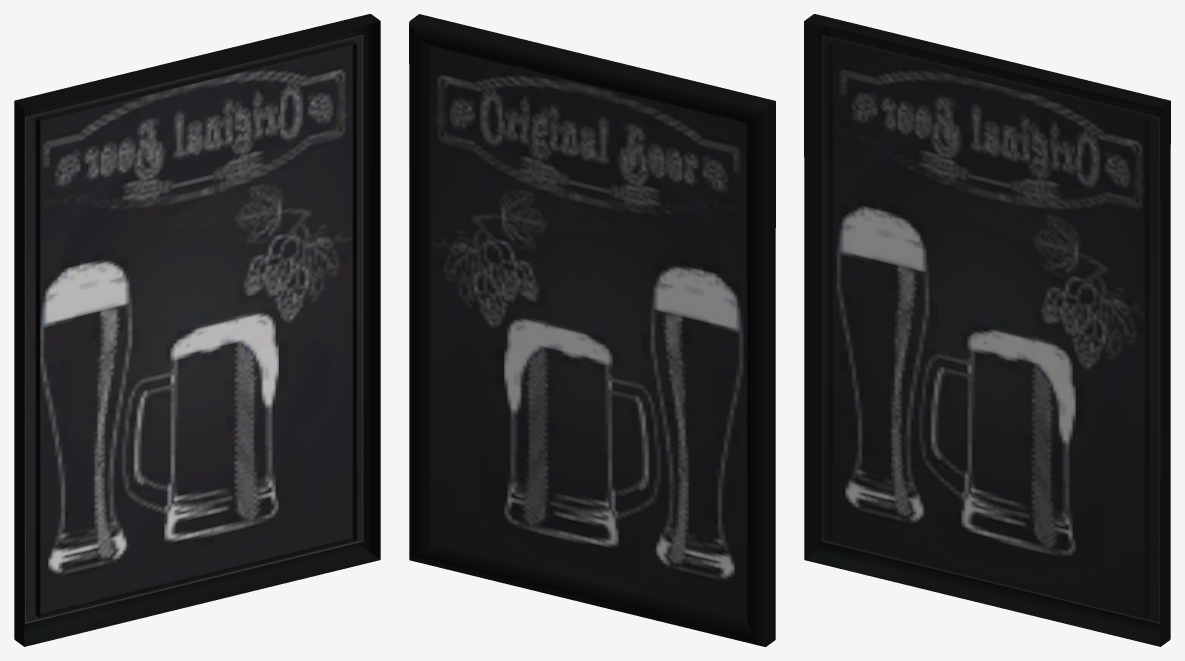
Rendered from Prop_Canvas_x3.obj.
3 renders of one model, left to right at view 1: azimuth 30°, elevation 25°; view 2: azimuth 150°, elevation 25°; view 3: azimuth 330°, elevation 25°, orthographic.
Visible parts, largest first — view 1: Prop_Canvas_x3_0; view 2: Prop_Canvas_x3_0; view 3: Prop_Canvas_x3_0.
Part boxes in pixels (x1=…): Prop_Canvas_x3_0: x1=14, y1=14, x2=380, y2=646; Prop_Canvas_x3_0: x1=409, y1=14, x2=775, y2=646; Prop_Canvas_x3_0: x1=804, y1=14, x2=1170, y2=646.
Bounding box in the file's own units: 0.7802 × 1.13 × 0.0441.
Materials: 1 (1 with a texture image).
